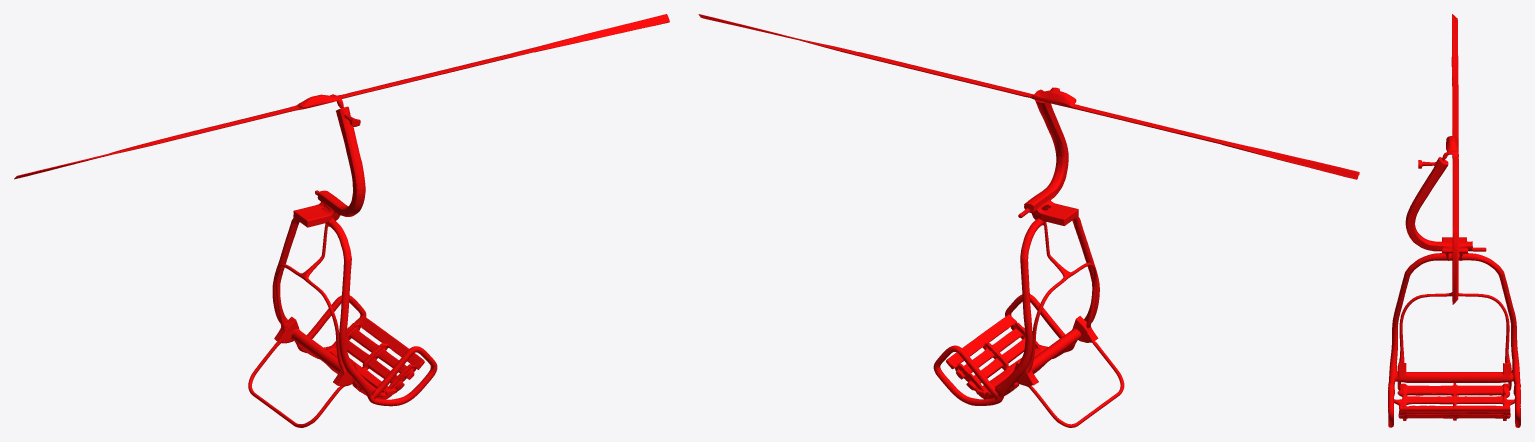
Rendered from jisan_01.glb.
The picture shows the model from 3 angles, left to right: view 1: azimuth 30°, elevation 25°; view 2: azimuth 150°, elevation 25°; view 3: azimuth 270°, elevation 25°; orthographic projection. The views are drawn at different scales.
Visible parts, largest first — view 1: tripo_node_4e37e0d6-9b9e-4322-bd77-f64eaf96a5f9; view 2: tripo_node_4e37e0d6-9b9e-4322-bd77-f64eaf96a5f9; view 3: tripo_node_4e37e0d6-9b9e-4322-bd77-f64eaf96a5f9.
Boxes of the visible parts, bbox=[...] form: tripo_node_4e37e0d6-9b9e-4322-bd77-f64eaf96a5f9: bbox=[14, 14, 669, 427]; tripo_node_4e37e0d6-9b9e-4322-bd77-f64eaf96a5f9: bbox=[698, 14, 1359, 427]; tripo_node_4e37e0d6-9b9e-4322-bd77-f64eaf96a5f9: bbox=[1388, 14, 1520, 427].
Size of the model in its own units: 0.1 by 0.0447 by 0.0196.
